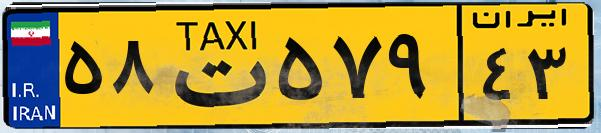3: (525, 38, 570, 115)
4: (475, 38, 525, 113)
5: (270, 28, 330, 110), (57, 26, 110, 100)
7: (330, 28, 385, 110)
8: (110, 28, 158, 98)
9: (385, 28, 445, 110)
ت: (158, 12, 270, 120)
